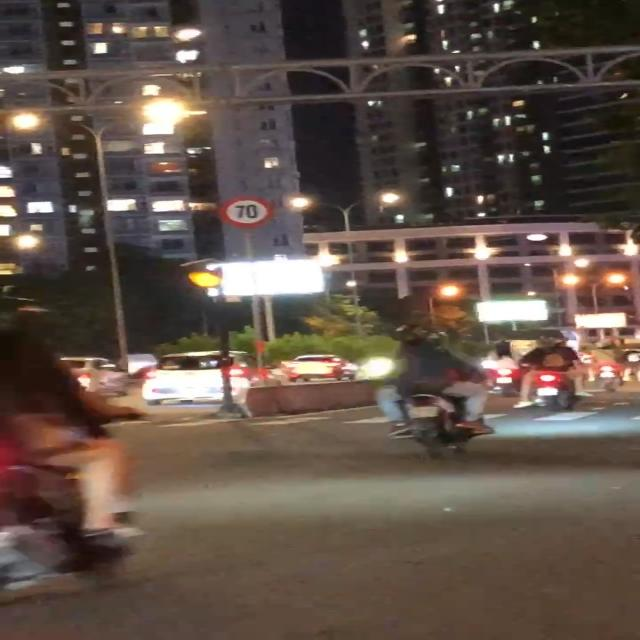Bien bao toc do toi da cho phep: (218, 195, 279, 232)
